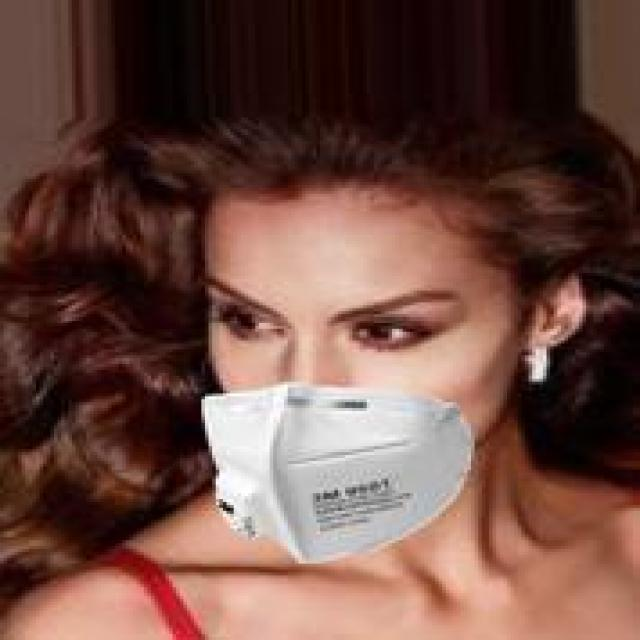mask: (148, 126, 576, 555)
